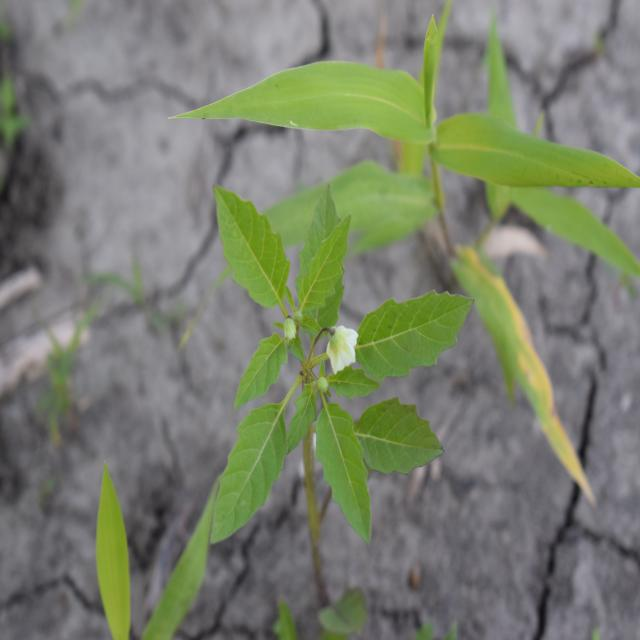CutleafGroundcherry: (208, 178, 476, 547)
